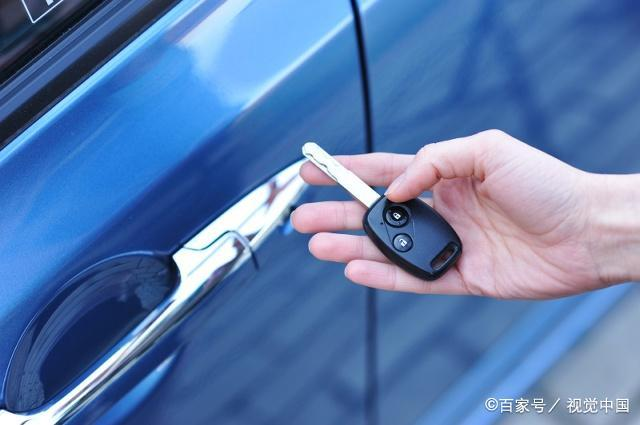key: (291, 138, 467, 284)
